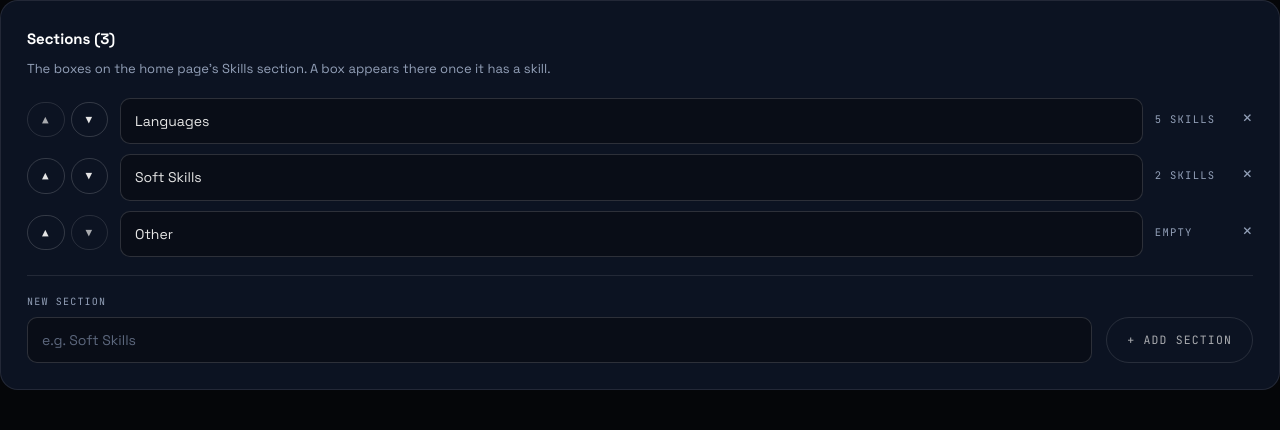
Test: adding › refuses an existing name in any case — shake and mark, nothing sent
In the field labelled "New section": [560, 340] box [27,317,1092,363], type "soft skills"
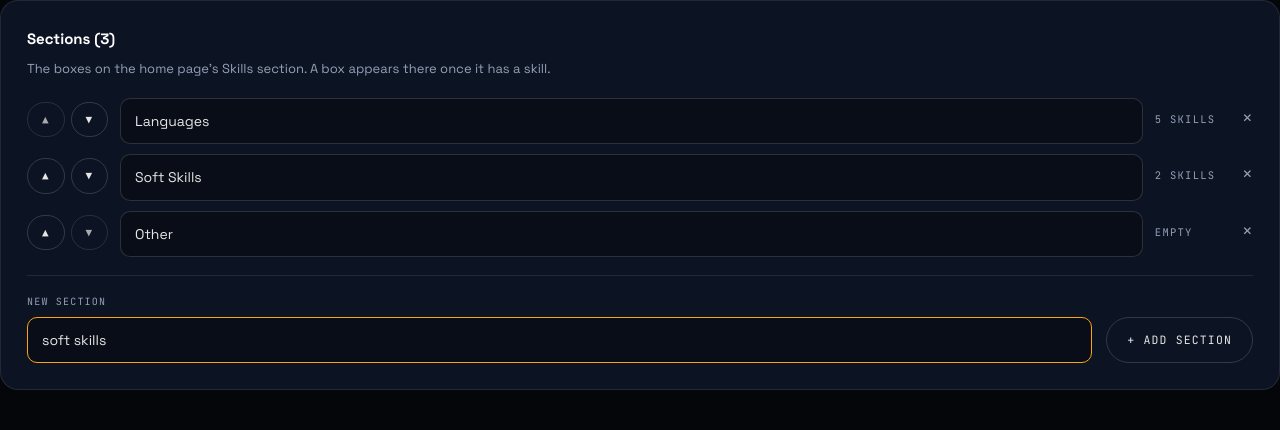
Click the button "+ ADD SECTION": [1180, 340] box [1106,317,1253,363]
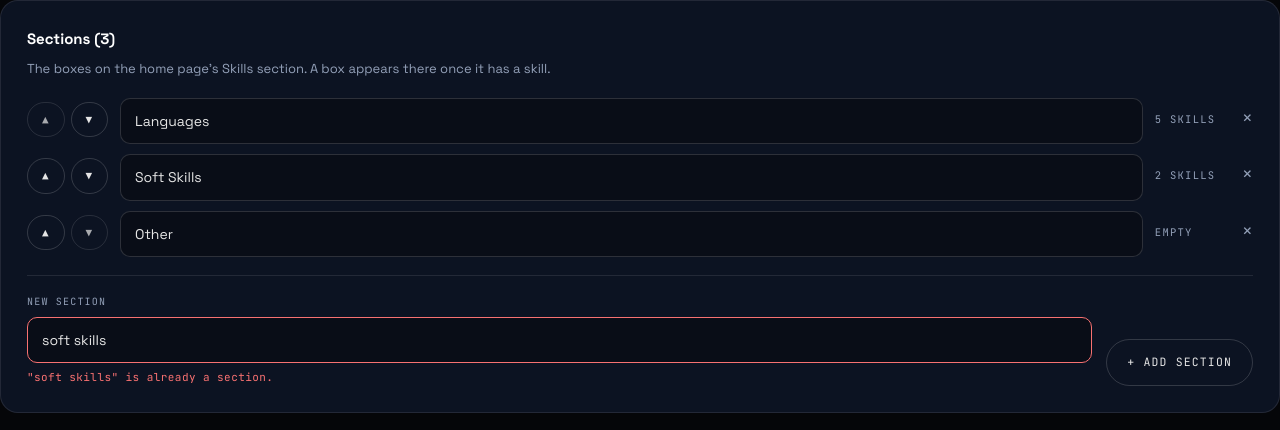
Expected: the text "\"soft skills\" is already a section." is shown, [27,370,273,384]
